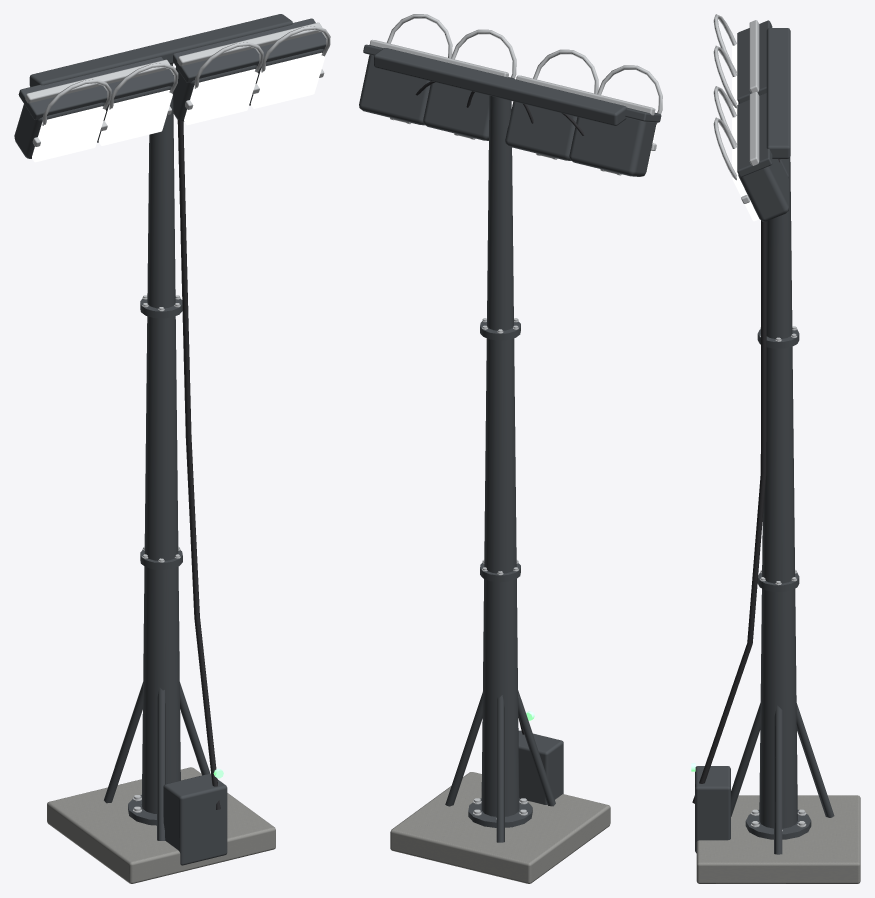
File: fps-survival-forest-outpost-floodlight-mast-98fcda0b.glb
3 views of the same model, side by side, from view 1: azimuth 30°, elevation 25°; view 2: azimuth 150°, elevation 25°; view 3: azimuth 270°, elevation 25° (orthographic). The views are drawn at different scales.
Parts seen in each view (by area): view 1: floodlight-mast; view 2: floodlight-mast; view 3: floodlight-mast.
Part boxes in pixels (x1=…): floodlight-mast: x1=14, y1=14, x2=330, y2=883; floodlight-mast: x1=359, y1=14, x2=662, y2=883; floodlight-mast: x1=691, y1=14, x2=860, y2=883.
Size of the model in its own units: 2.2 by 5.78 by 1.13.
6 materials, 1 textured.
